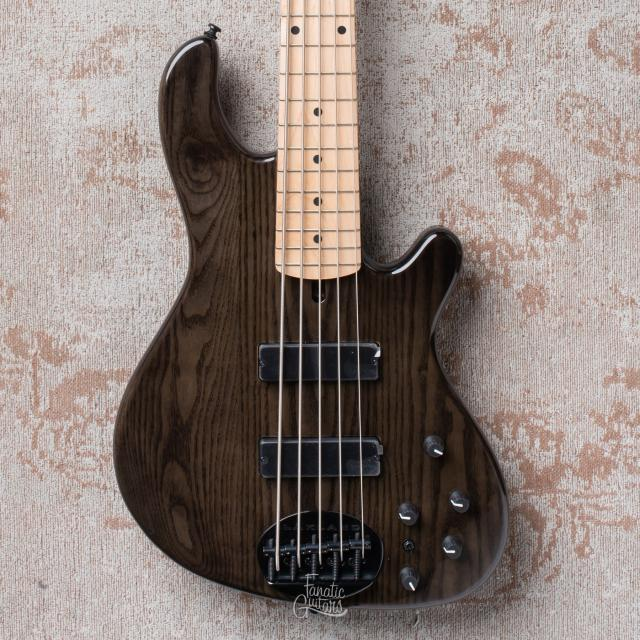bass: (114, 0, 506, 607)
